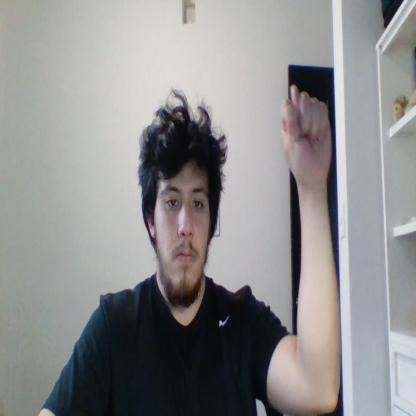T: (281, 85, 333, 184)
